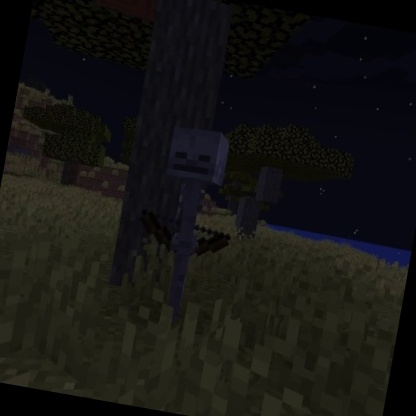skeleton: (118, 116, 254, 328)
